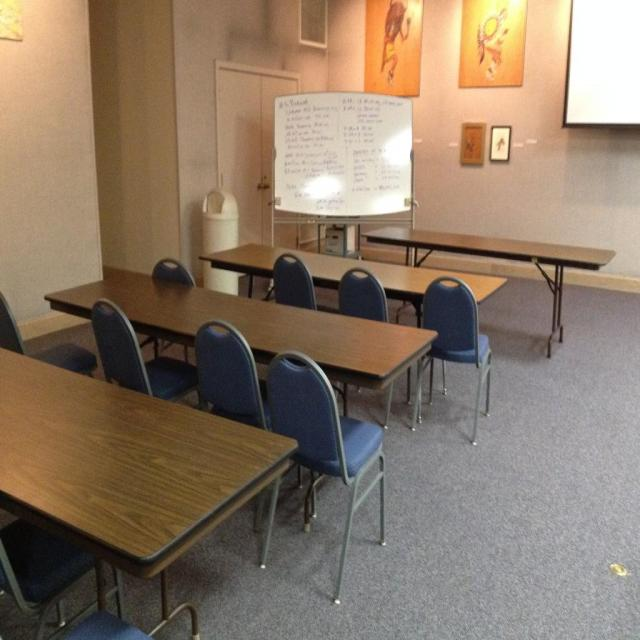chair: (264, 352, 387, 604), (195, 321, 298, 570), (336, 266, 416, 432), (418, 277, 493, 443), (89, 297, 200, 404), (1, 292, 98, 376), (272, 253, 318, 309), (153, 257, 195, 286)
desk: (0, 347, 299, 639)
